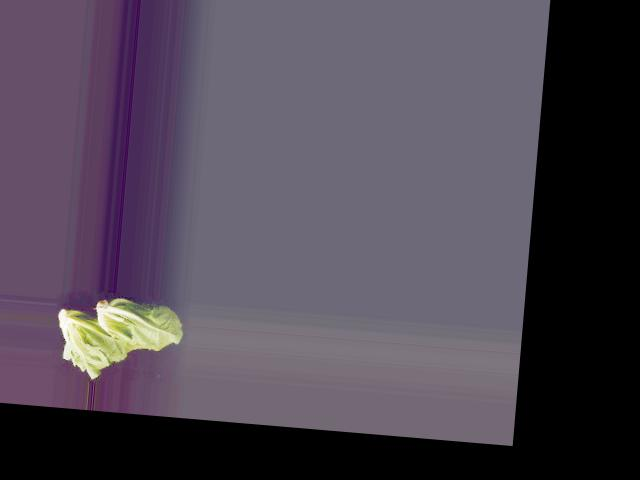lettuce: (53, 298, 146, 382)
